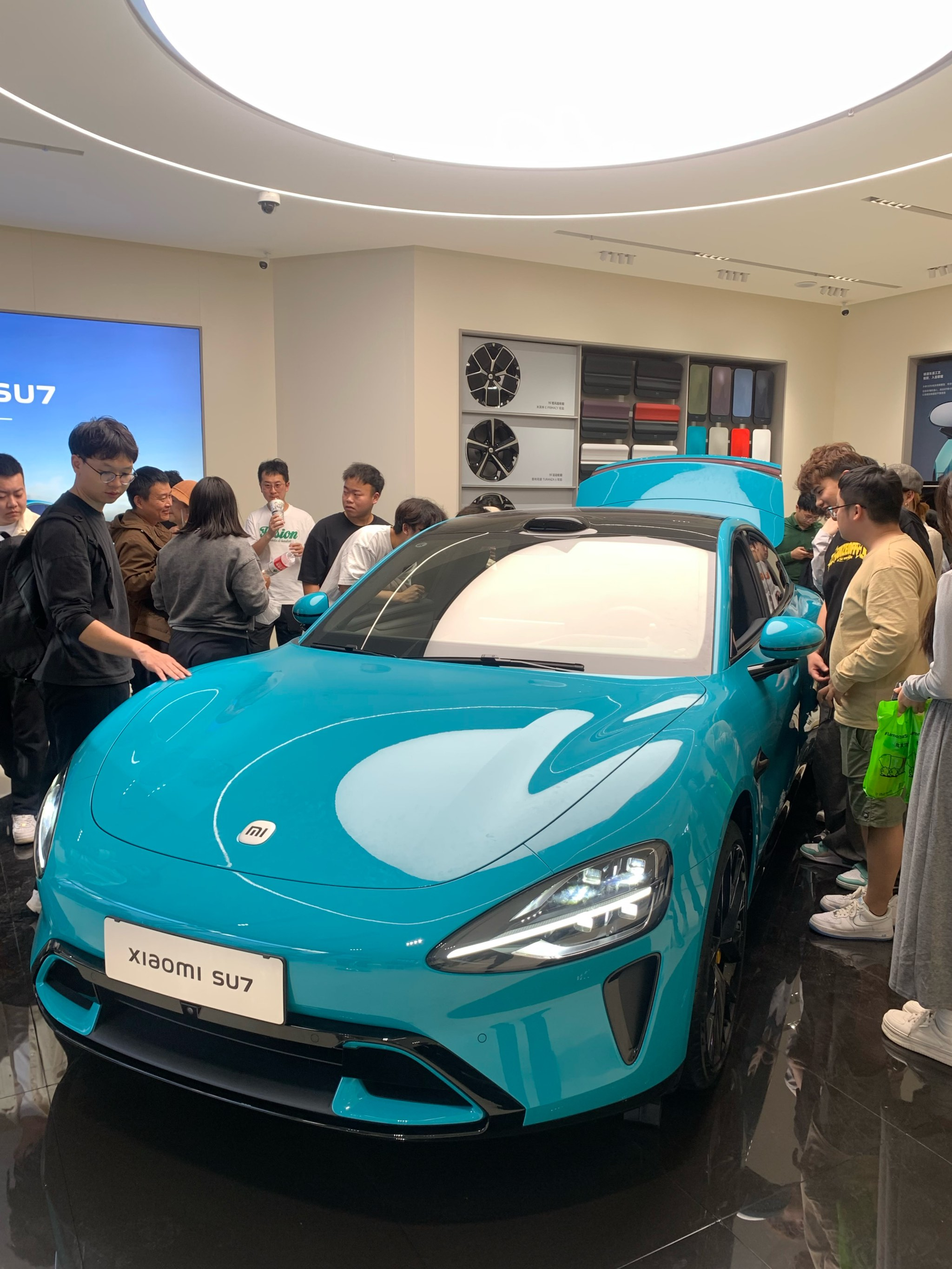su7: (18, 470, 828, 1161)
